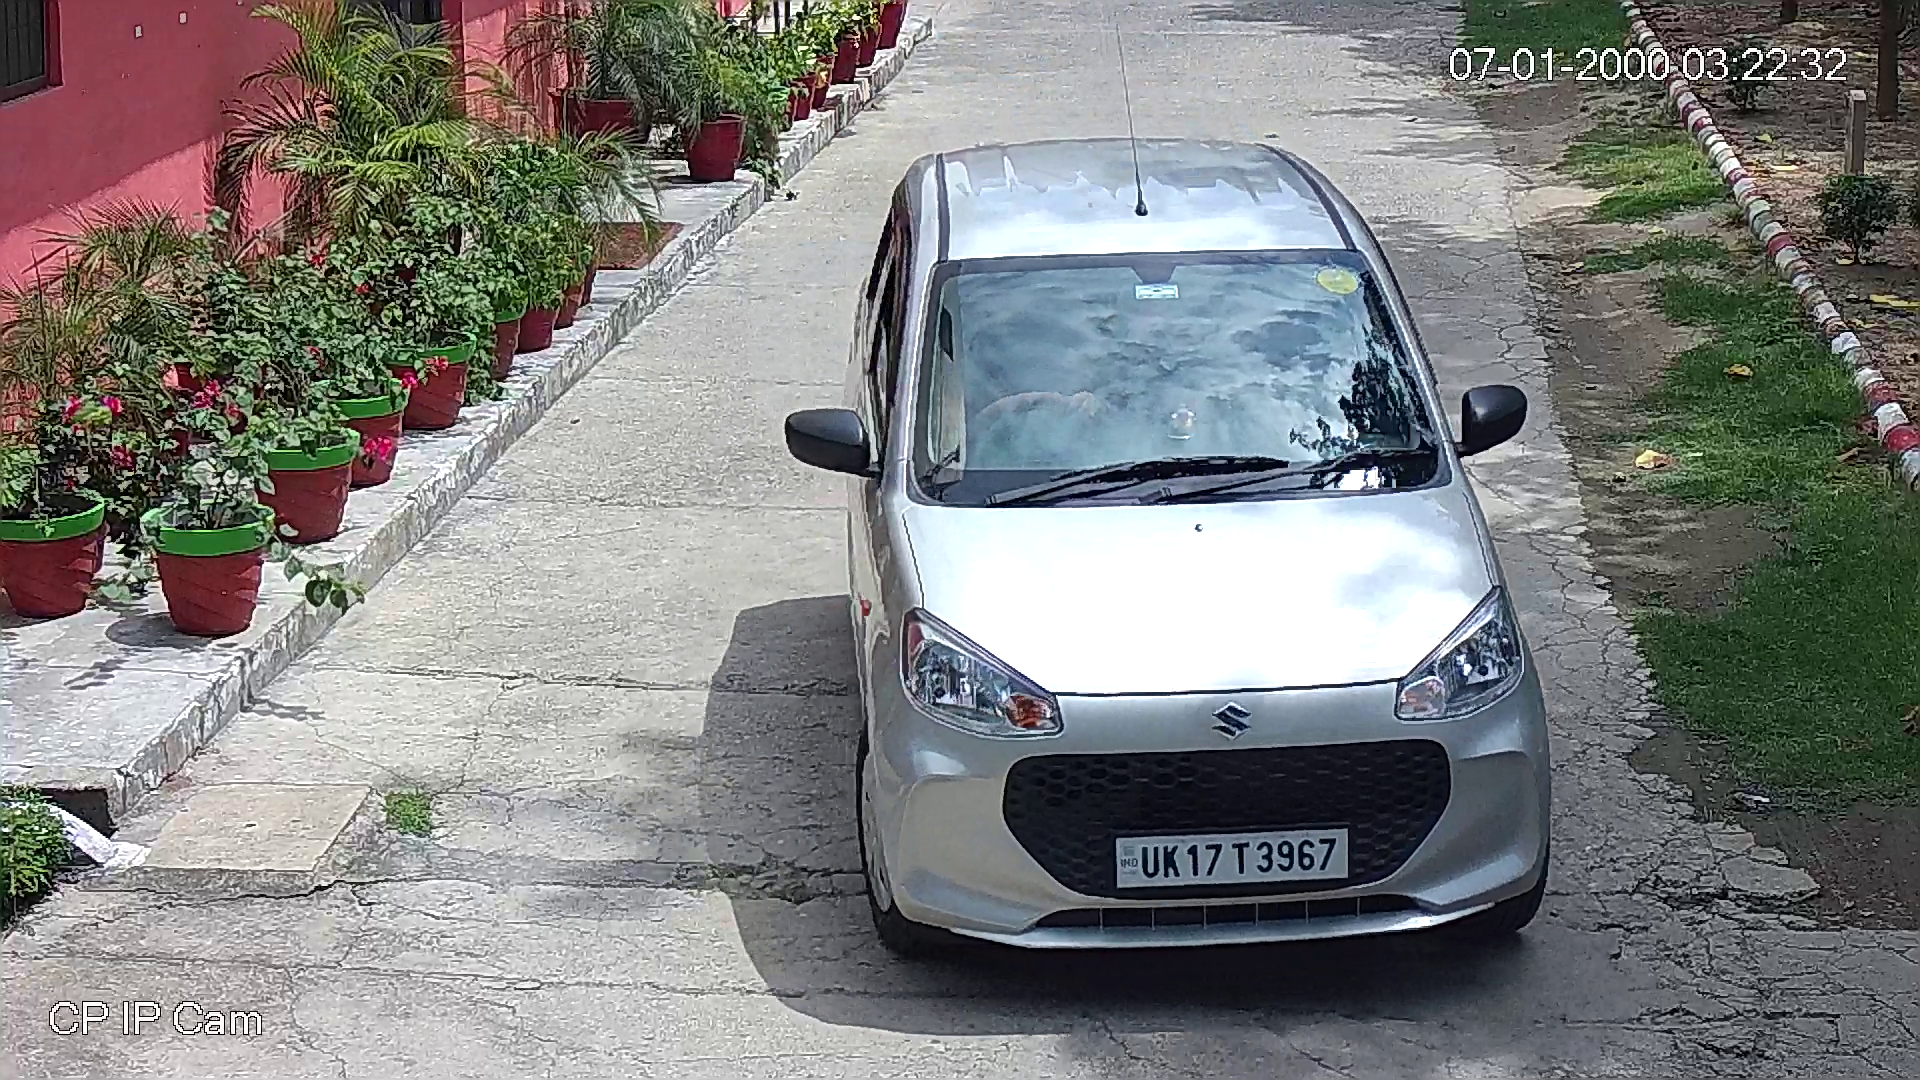plate: (1119, 825, 1353, 884)
